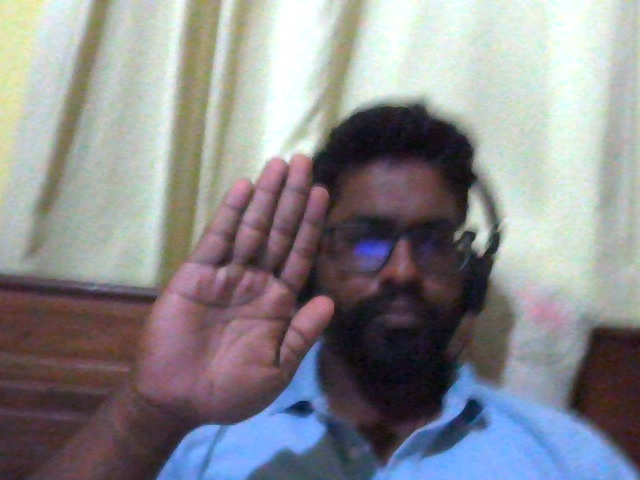Hello: (121, 146, 349, 435)
